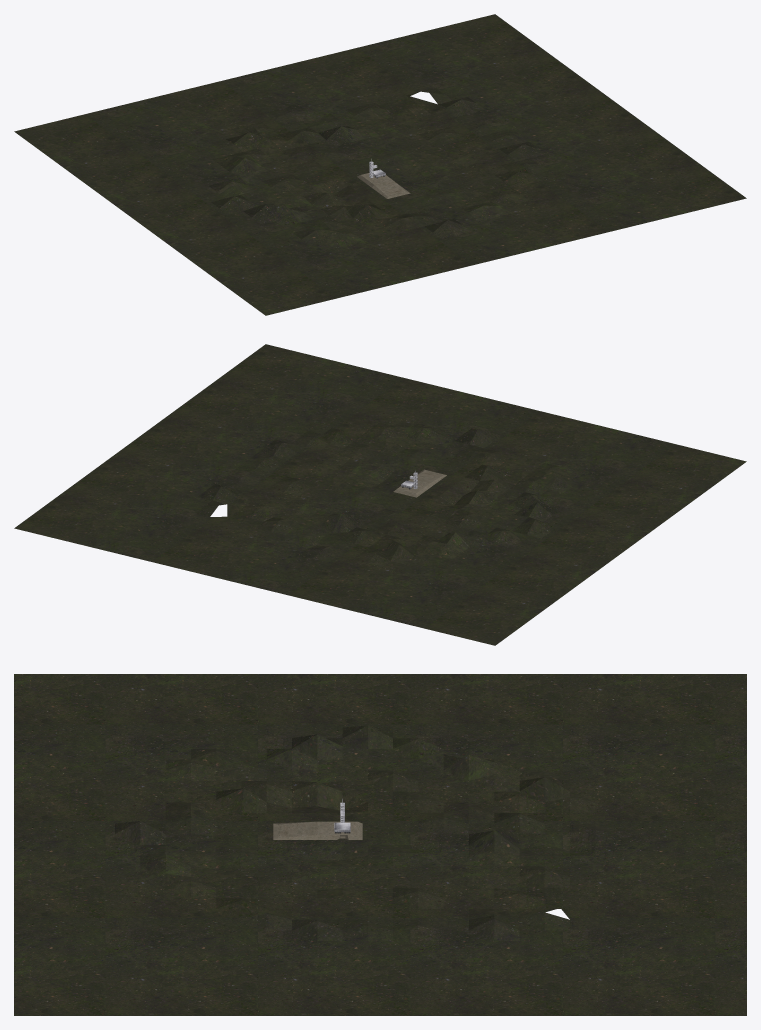
The model's file is launch_site.gltf.
The picture shows the model from 3 angles, top to bottom: view 1: azimuth 30°, elevation 25°; view 2: azimuth 150°, elevation 25°; view 3: azimuth 270°, elevation 25°; orthographic projection. The views are drawn at different scales.
Parts seen in each view (by area): view 1: ground, basis; view 2: ground, basis; view 3: ground, basis.
Boxes of the visible parts, left/top/right/bottom form: ground: left=14, top=14, right=746, bottom=315; basis: left=357, top=173, right=410, bottom=198; ground: left=14, top=344, right=746, bottom=645; basis: left=393, top=469, right=446, bottom=497; ground: left=14, top=674, right=746, bottom=1015; basis: left=273, top=821, right=362, bottom=839.
Bounding box in the file's own units: 2040 × 111 × 1848.
4 materials, 4 textured.
